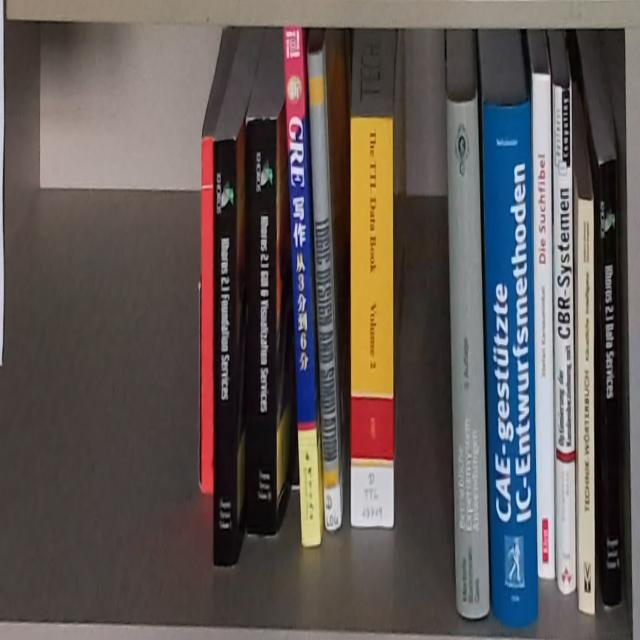Book Spine: (481, 90, 539, 632), (446, 91, 489, 622), (282, 27, 321, 547), (350, 116, 395, 531), (308, 49, 341, 535), (529, 68, 556, 585), (244, 117, 277, 537), (552, 80, 577, 592), (596, 152, 624, 603), (214, 137, 238, 568), (576, 196, 595, 614), (200, 136, 214, 493)
